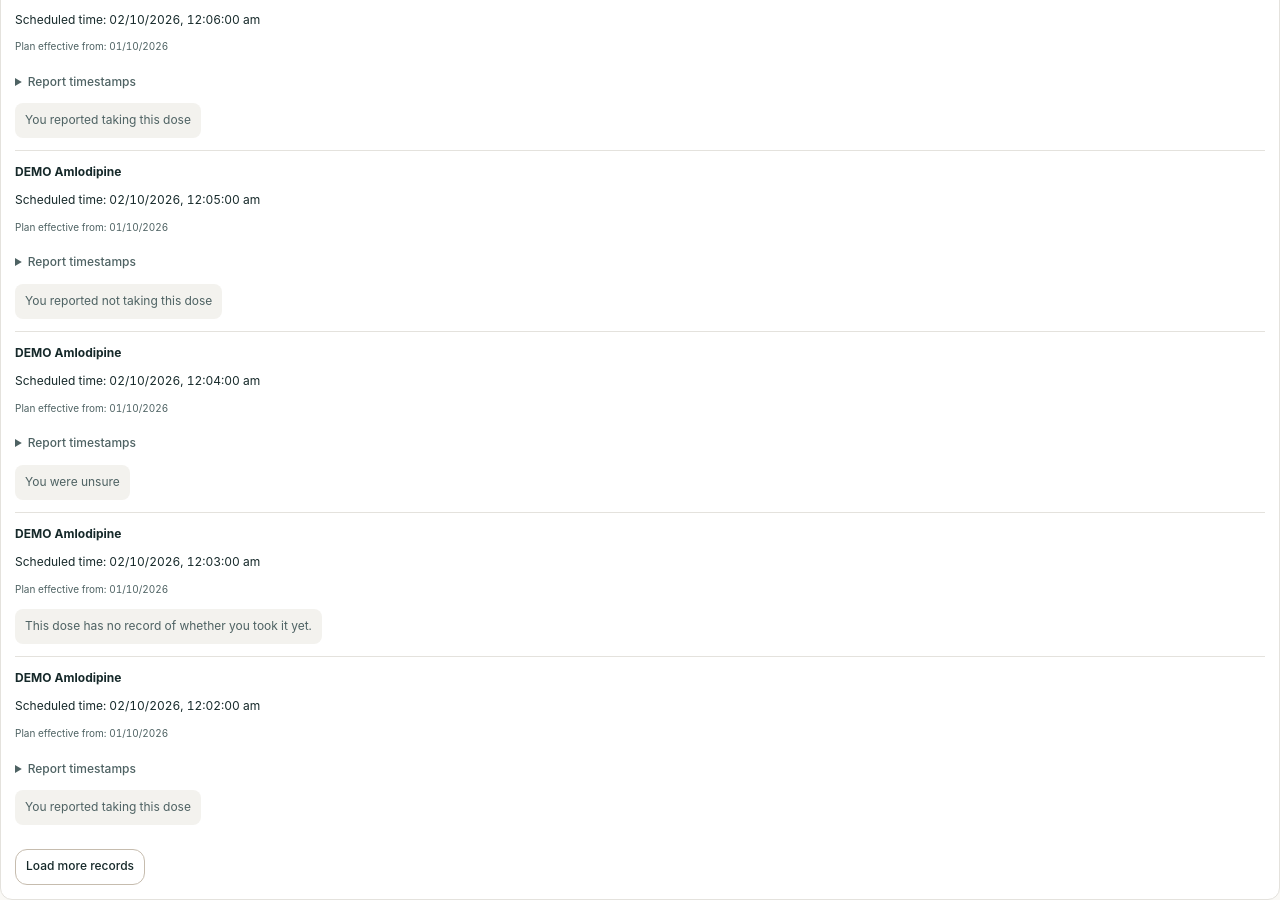
Scenario: shows 6 stored records with real page requests only when available
The width and height of the screenshot is (1280, 900).
(page scrolled)
Click the button "Load more records": click(80, 867) [15,849,145,885]
(page scrolled)
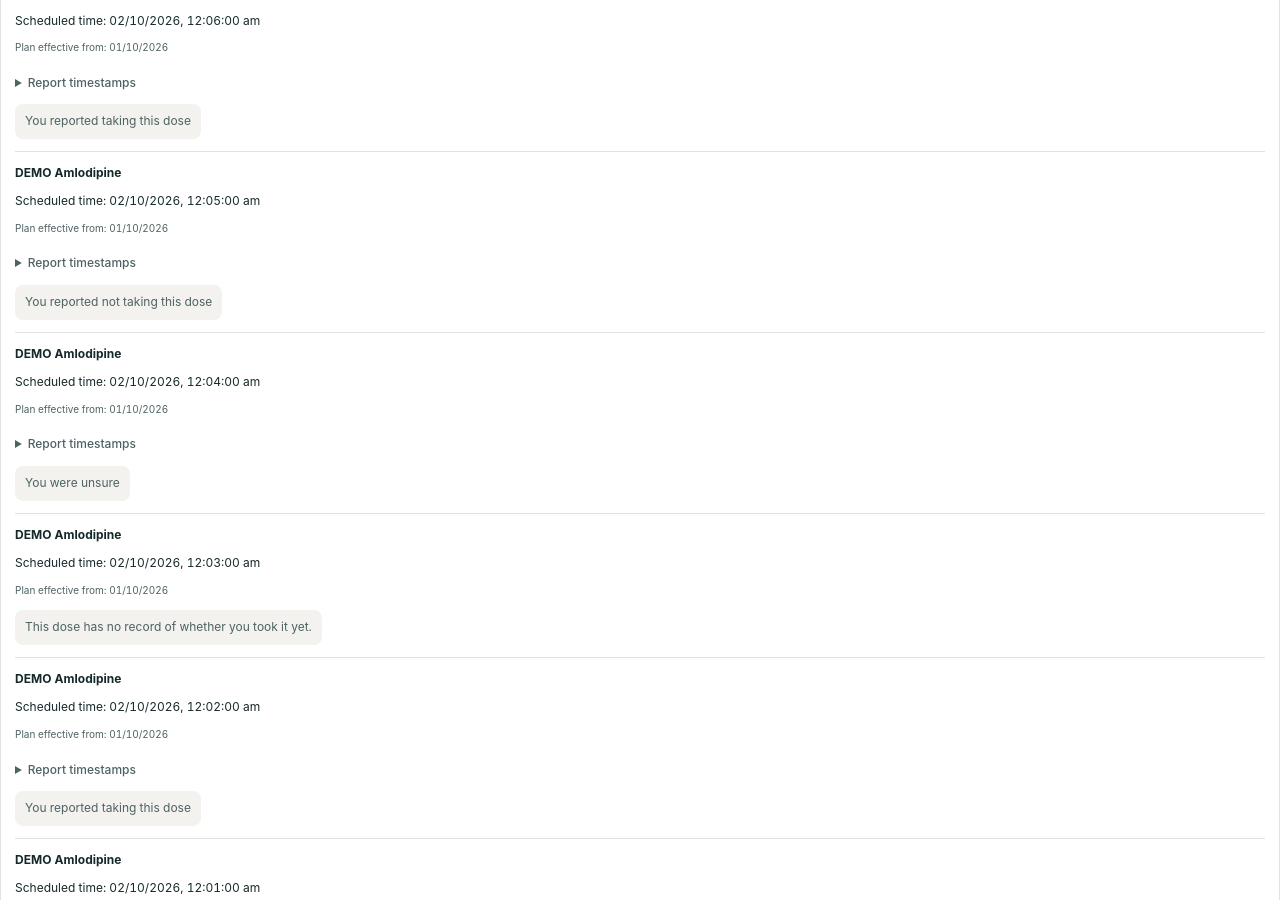
Expected: the button "Load more records" is gone
